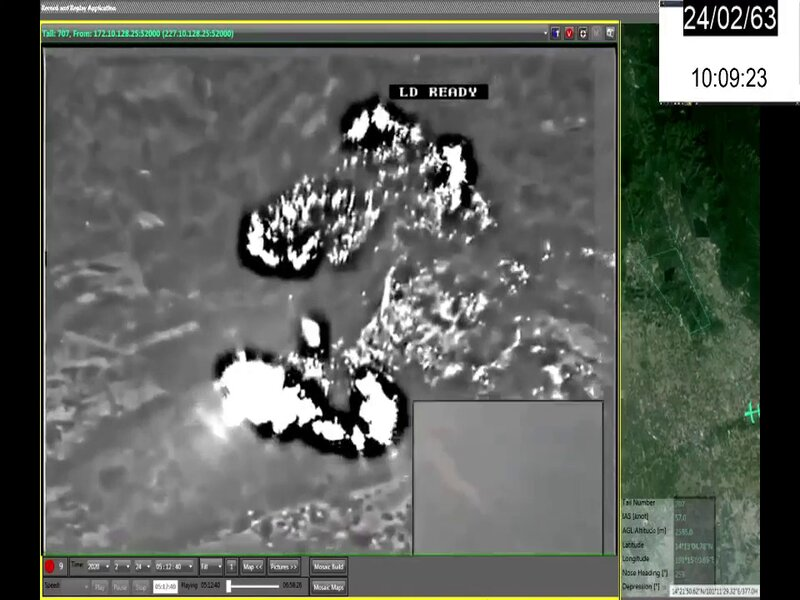Fire: (203, 94, 413, 464)
